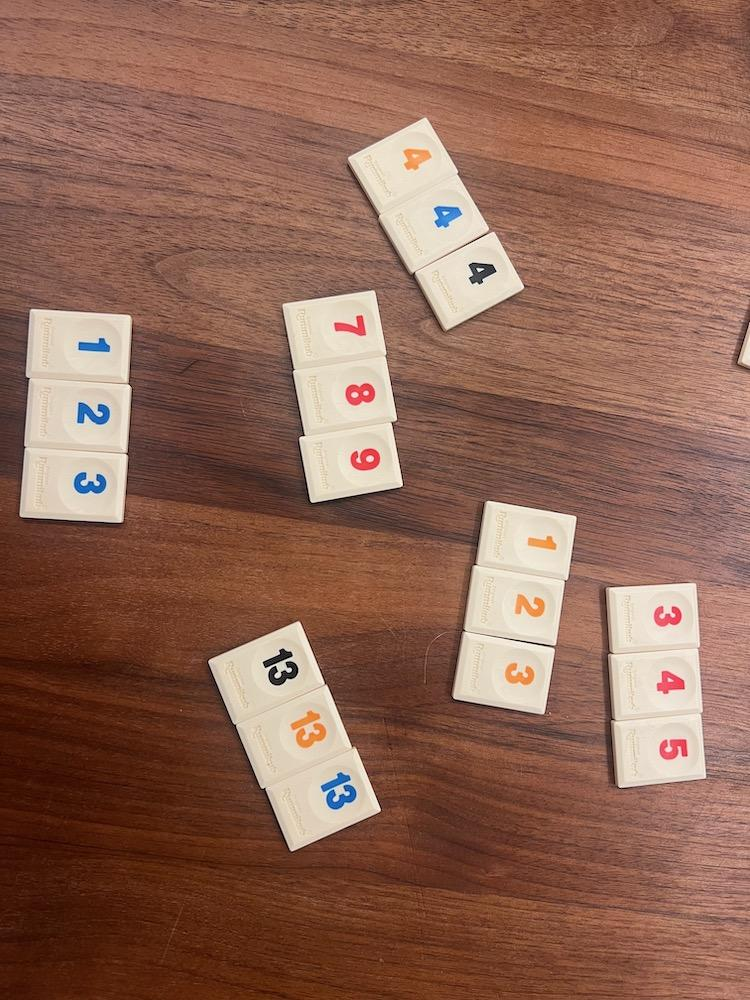black_13: (211, 621, 324, 725)
black_4: (414, 232, 523, 330)
blue_1: (25, 309, 133, 382)
blue_13: (267, 748, 381, 852)
blue_2: (26, 379, 131, 452)
blue_3: (20, 447, 129, 523)
blue_4: (379, 176, 488, 273)
orange_1: (479, 502, 576, 580)
orange_13: (236, 686, 352, 787)
orange_2: (465, 566, 563, 646)
orange_3: (454, 633, 555, 715)
orange_4: (348, 119, 457, 213)
red_3: (607, 584, 699, 654)
red_4: (610, 648, 701, 721)
red_5: (612, 713, 705, 787)
red_7: (283, 291, 387, 369)
red_8: (293, 357, 396, 436)
red_9: (299, 422, 402, 502)
